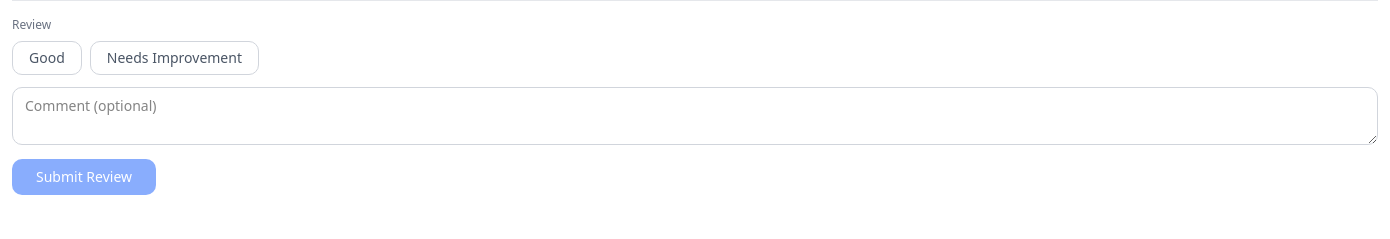
Test: shows administrator guidance without automatic retry for an uncertain correction
Click the button "Good". click: [47, 58]
box: [12, 41, 82, 75]
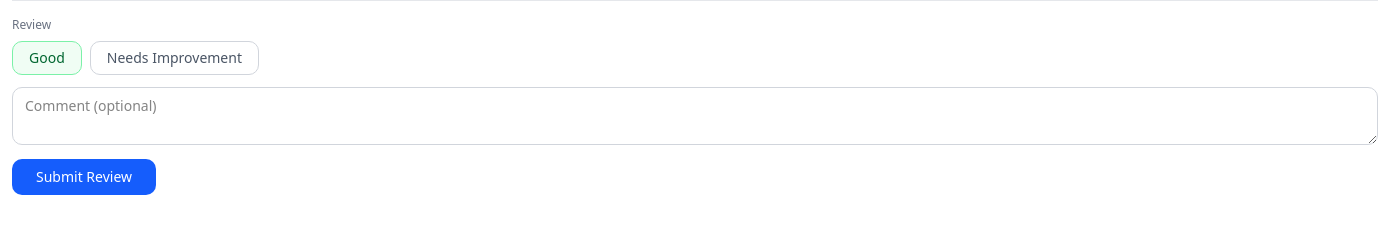
Click the button "Submit Review". click: [84, 177]
box: [12, 159, 156, 195]
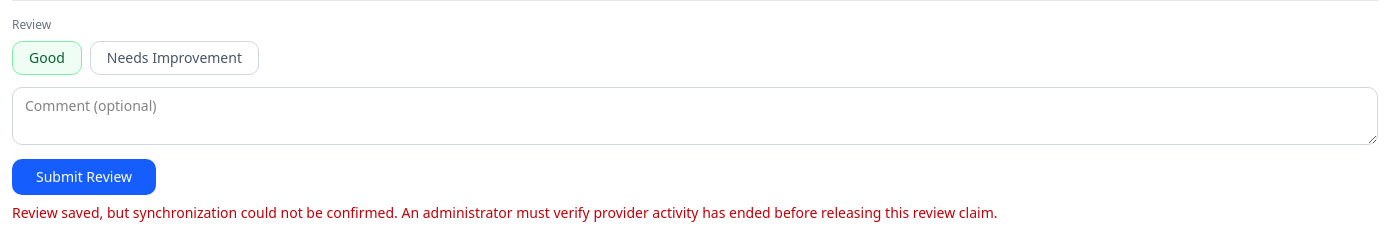
Result: the message shows "administrator must verify" at [12, 203, 998, 222]
